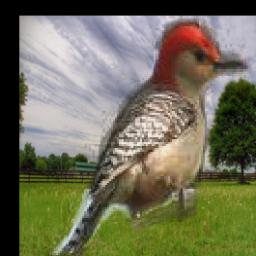Woodpecker: (50, 17, 250, 256)
